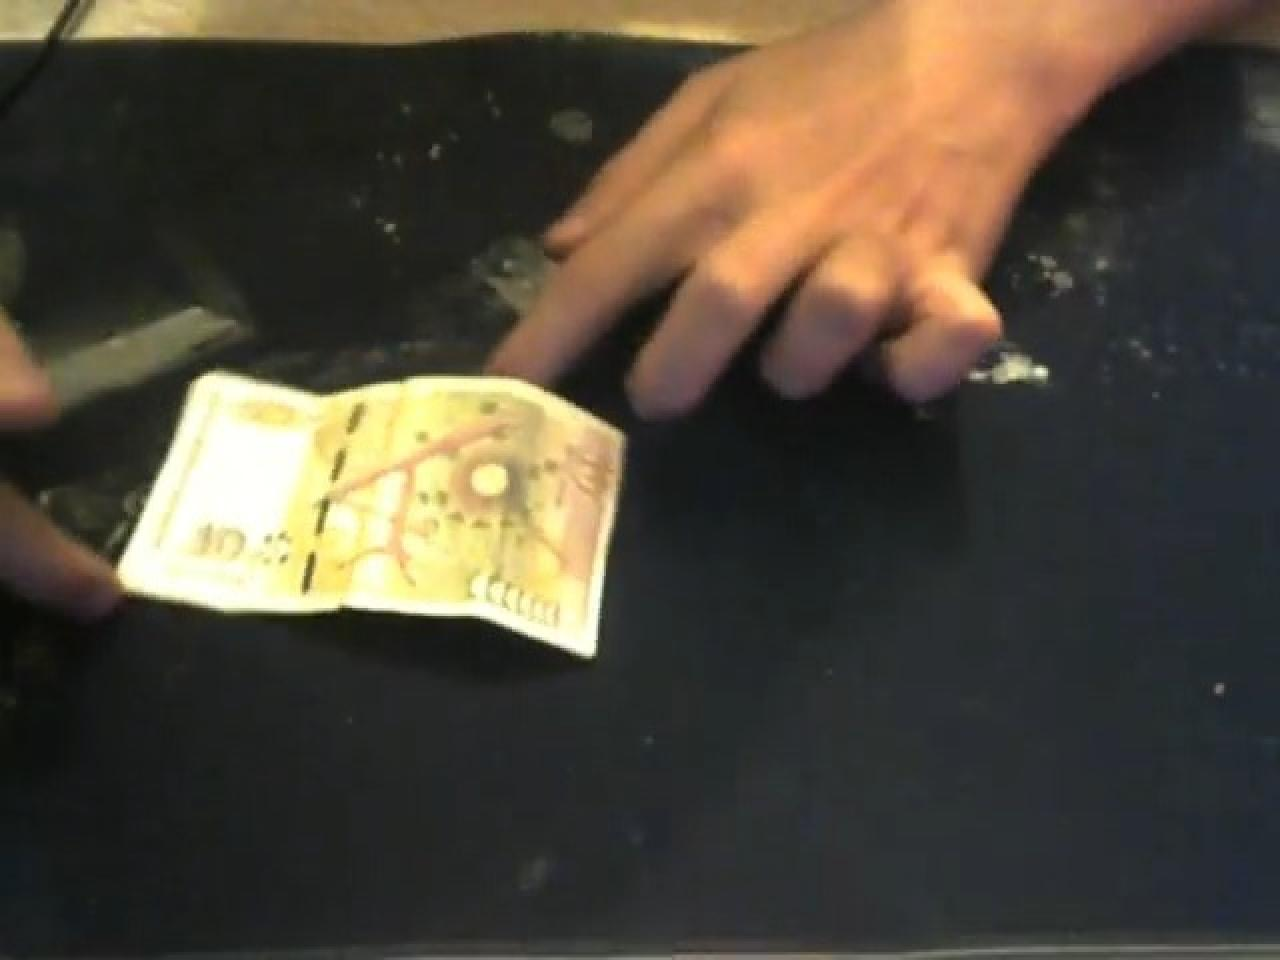10leva: (112, 373, 628, 662)
